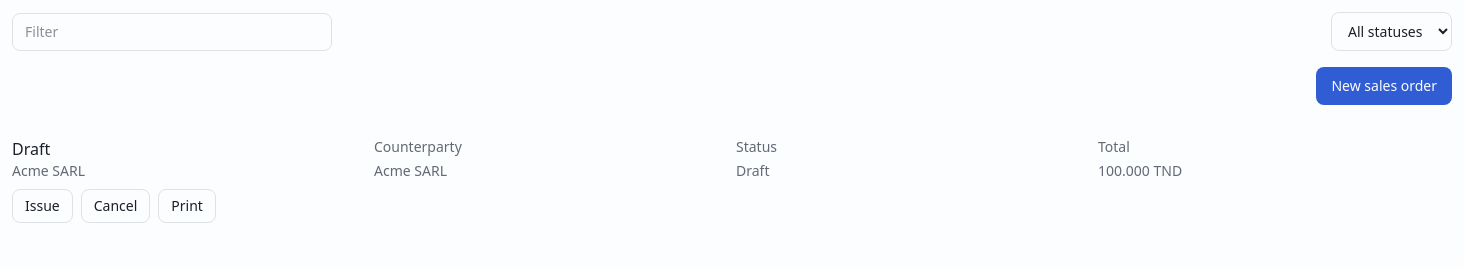
Scenario: DocumentList actions › localizes a known error code via error-messages dictionary
Click the button "Cancel": {"x": 116, "y": 206} x1=81 y1=189 x2=150 y2=223
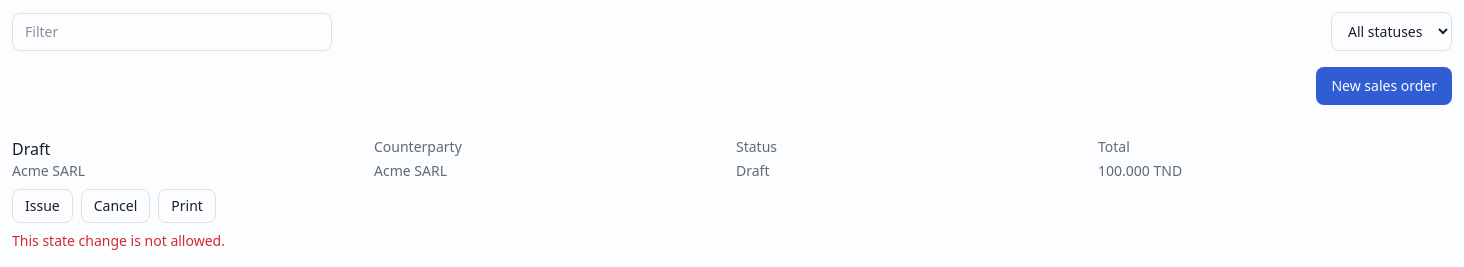
Check: the message reads "This state change is not allowed.", box x1=12 y1=231 x2=225 y2=250
